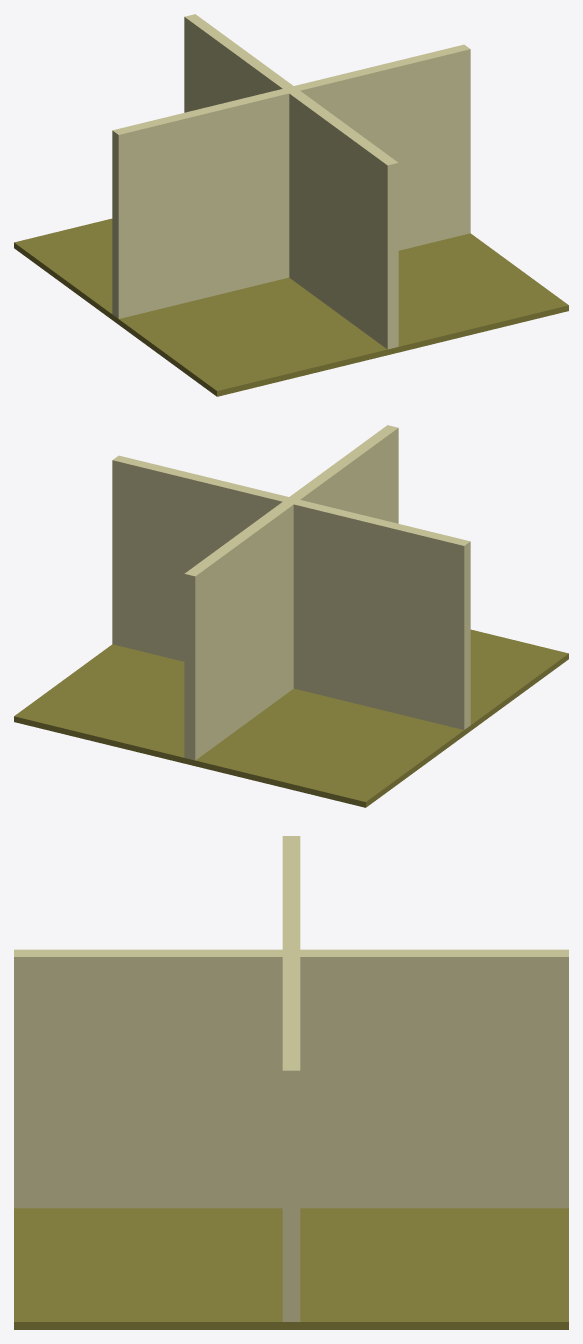
Rendered from BACKROOMS_TILE_03.gltf.
3 views of the same model, one above another, from view 1: azimuth 30°, elevation 25°; view 2: azimuth 150°, elevation 25°; view 3: azimuth 270°, elevation 25° (orthographic). The views are drawn at different scales.
Visible parts, largest first — view 1: cube (×3); view 2: cube (×3); view 3: cube (×3).
Boxes of the visible parts, x1=… form: cube (×3): x1=14, y1=14, x2=568, y2=396; cube (×3): x1=14, y1=425, x2=568, y2=807; cube (×3): x1=14, y1=836, x2=568, y2=1329.
Bounding box in the file's own units: 4 × 2.06 × 4.
Materials: 2 (2 with a texture image).
